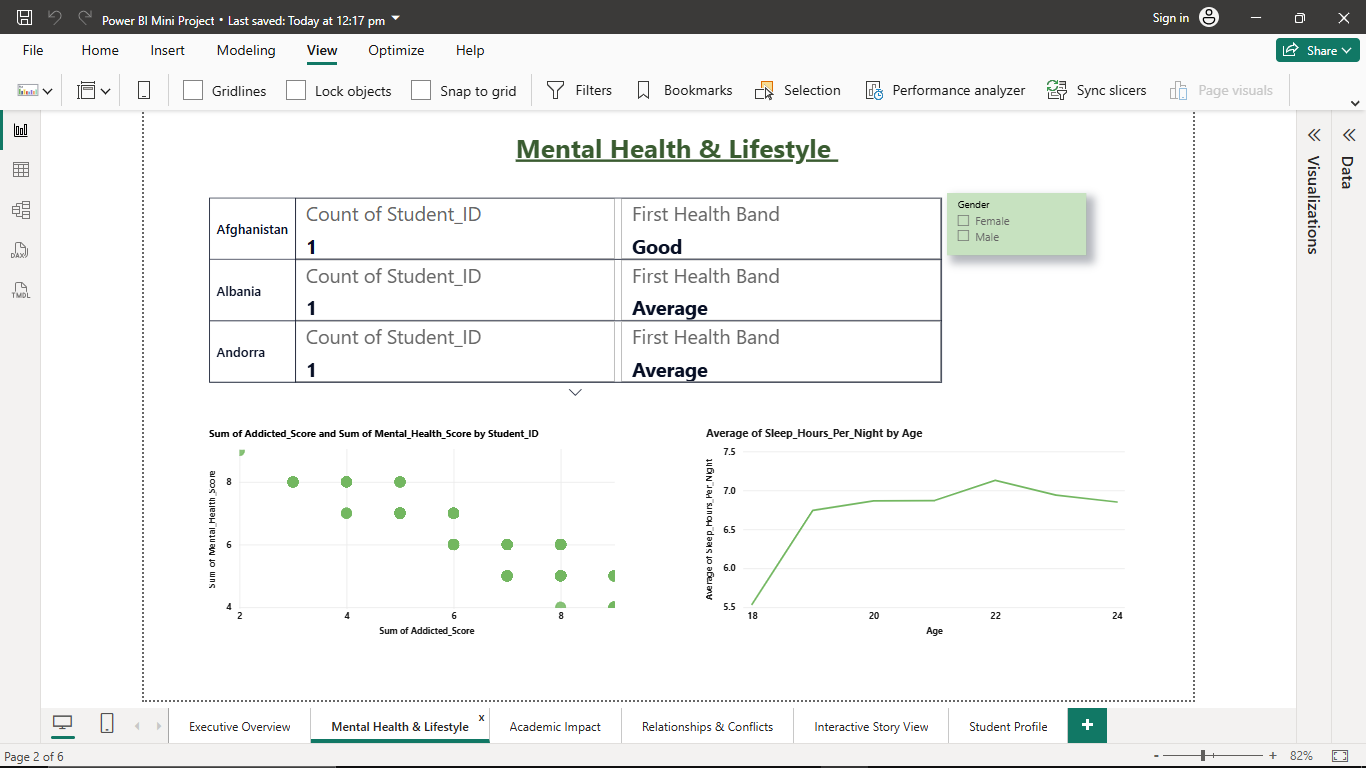

What the dashboard file says about the page in this screenshot:
{"tool":"powerbi","page":{"name":"Mental Health & Lifestyle","canvas":[1280,720],"ordinal":1},"visuals":[{"type":"scatterChart","fields":{"X":["Sum(Student Details.Addicted_Score)"],"Y":["Sum(Student Details.Mental_Health_Score)"],"Category":["Platform Details.Student_ID"]},"box":[74.9,385.9,508.3,262.1],"z":0},{"type":"lineChart","fields":{"Category":["Student Details.Age"],"Y":["Avg(Student Details.Sleep_Hours_Per_Night)"]},"box":[681.1,385.9,521.3,262.1],"z":1000},{"type":"cardVisual","fields":{"Rows":["Student Details.Country"],"Data":["CountNonNull(Platform Details.Student_ID)","Min(Student Details.Health Band)"]},"box":[74.3,81.4,904.3,278.6],"z":2000},{"type":"textbox","box":[99.4,100.8,308.2,299.5],"z":3000},{"type":"textbox","box":[99.4,18.7,1103,63.4],"z":4000},{"type":"slicer","fields":{"Values":["Student Details.Gender"]},"box":[980,101.4,170,75.7],"z":5000}]}

Visuals, with their boxes on the page's 1280x720 design canvas (x1, y1, x2, y2). These are canvas units, not pixel positions in the 1366x768 screenshot, which may show the page scaled, cropped or inside an application window:
scatterChart - Sum(Student Details.Addicted_Score) x Sum(Student Details.Mental_Health_Score): (75, 386, 583, 648)
lineChart - Student Details.Age x Avg(Student Details.Sleep_Hours_Per_Night): (681, 386, 1202, 648)
cardVisual - Student Details.Country x CountNonNull(Platform Details.Student_ID): (74, 81, 979, 360)
textbox: (99, 101, 408, 400)
textbox: (99, 19, 1202, 82)
slicer - Student Details.Gender: (980, 101, 1150, 177)
